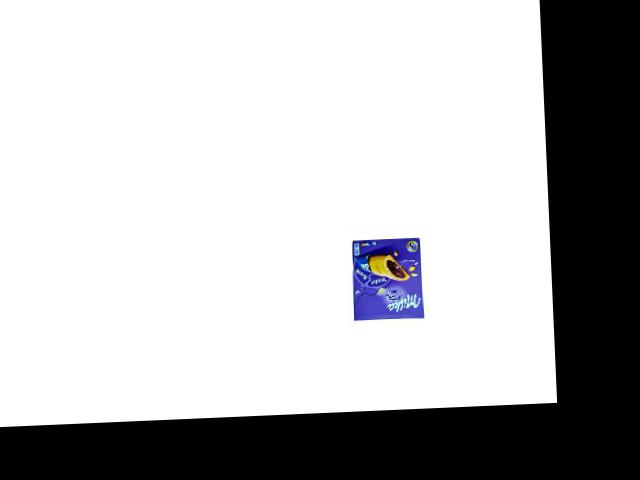chocolate: (347, 231, 428, 326)
